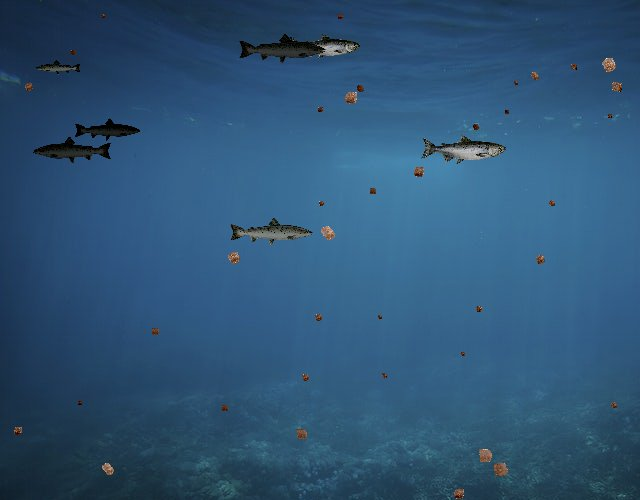Fish: (237, 33, 327, 65), (228, 216, 314, 247), (420, 134, 506, 165), (32, 135, 113, 164), (287, 33, 360, 60), (74, 117, 142, 142), (35, 60, 82, 77)
Pellet: (312, 218, 342, 248), (471, 441, 499, 469), (487, 457, 511, 481), (530, 249, 550, 269), (315, 197, 328, 210), (334, 10, 346, 22), (458, 348, 468, 358)
